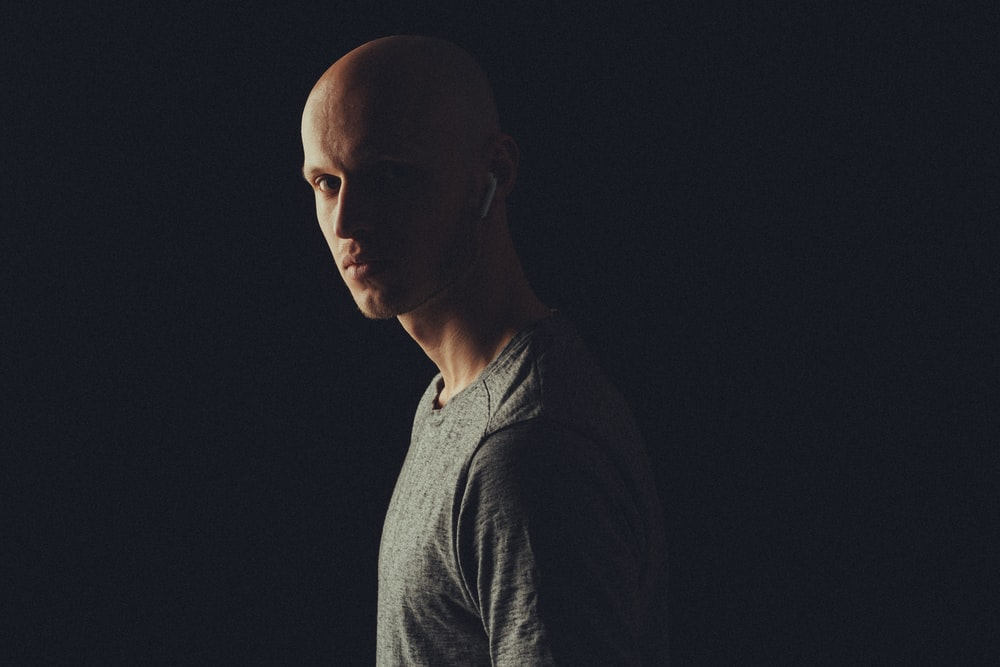earphone: (480, 135, 523, 221)
